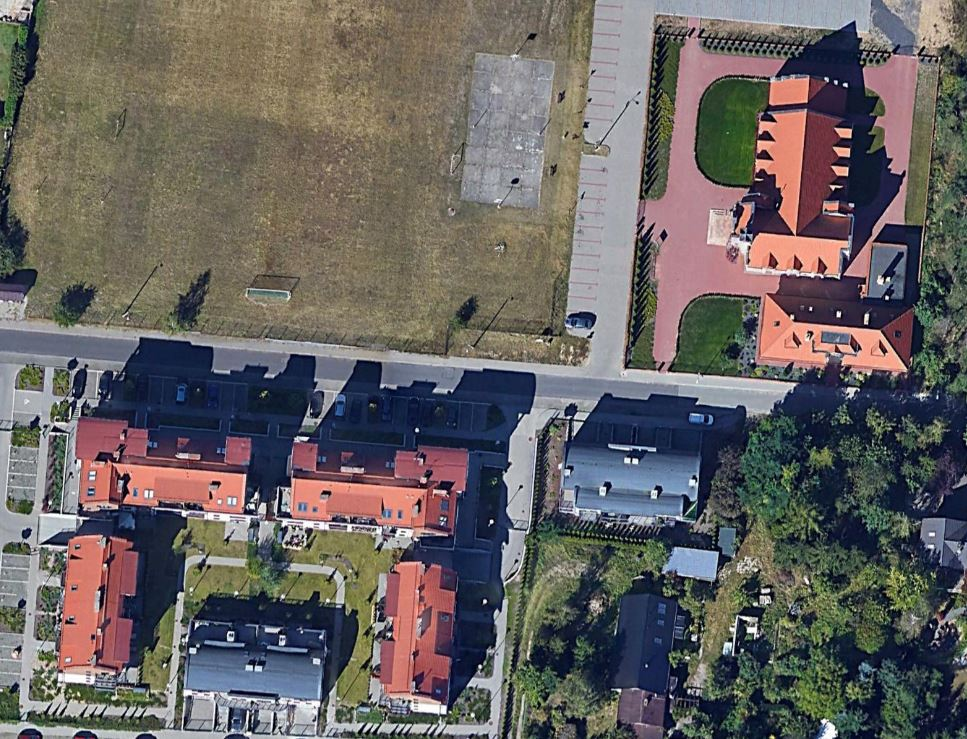block of flats: (271, 431, 470, 548), (69, 408, 264, 527), (179, 611, 334, 720), (361, 554, 461, 717), (746, 292, 926, 371), (58, 532, 149, 688), (549, 435, 703, 527)
church: (728, 65, 863, 283)
family house: (603, 587, 684, 699)
